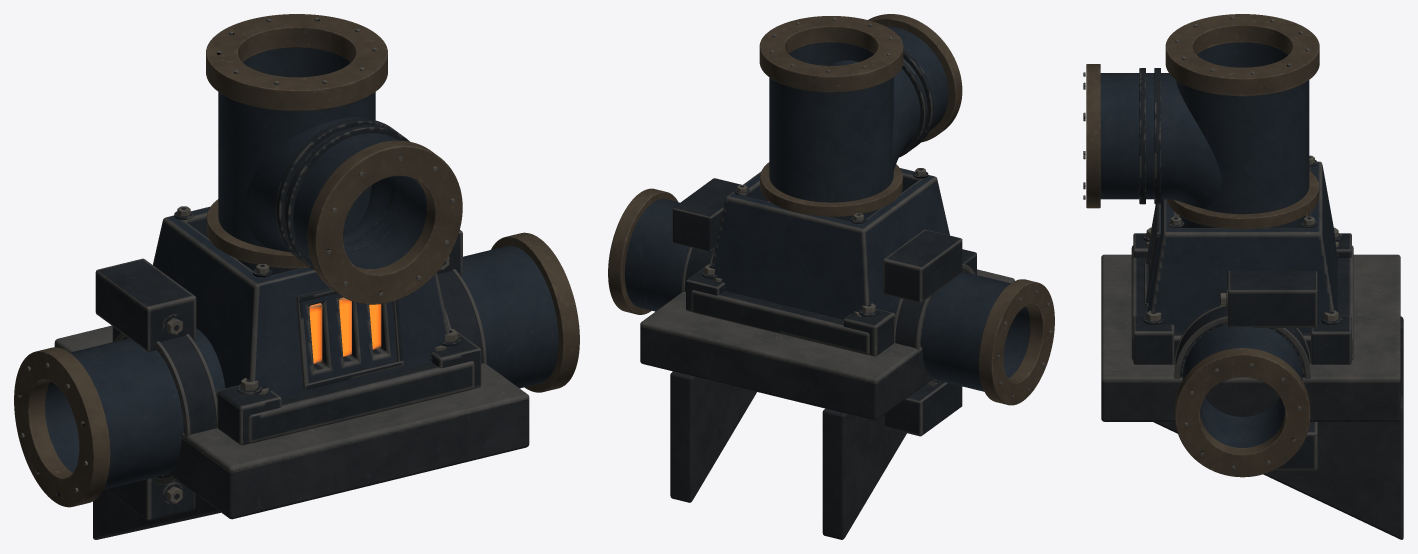
Rendered from chapter3_props.glb.
The picture shows the model from 3 angles, left to right: view 1: azimuth 30°, elevation 25°; view 2: azimuth 150°, elevation 25°; view 3: azimuth 270°, elevation 25°; orthographic projection. The views are drawn at different scales.
Parts seen in each view (by area): view 1: elbow_pipe, exhaust_vent, side_conduit; view 2: exhaust_vent, elbow_pipe, side_conduit; view 3: elbow_pipe, exhaust_vent, side_conduit.
Boxes of the visible parts, bbox=[...] form: elbow_pipe: bbox=[54, 117, 529, 539]; exhaust_vent: bbox=[55, 14, 529, 539]; side_conduit: bbox=[14, 230, 579, 520]; exhaust_vent: bbox=[671, 16, 1014, 539]; elbow_pipe: bbox=[640, 14, 1014, 539]; side_conduit: bbox=[608, 178, 1054, 436]; elbow_pipe: bbox=[1083, 64, 1403, 539]; exhaust_vent: bbox=[1102, 14, 1403, 403]; side_conduit: bbox=[1174, 270, 1317, 477].
Size of the model in its own units: 0.866 by 0.897 by 0.577.
1 material, 1 textured.
